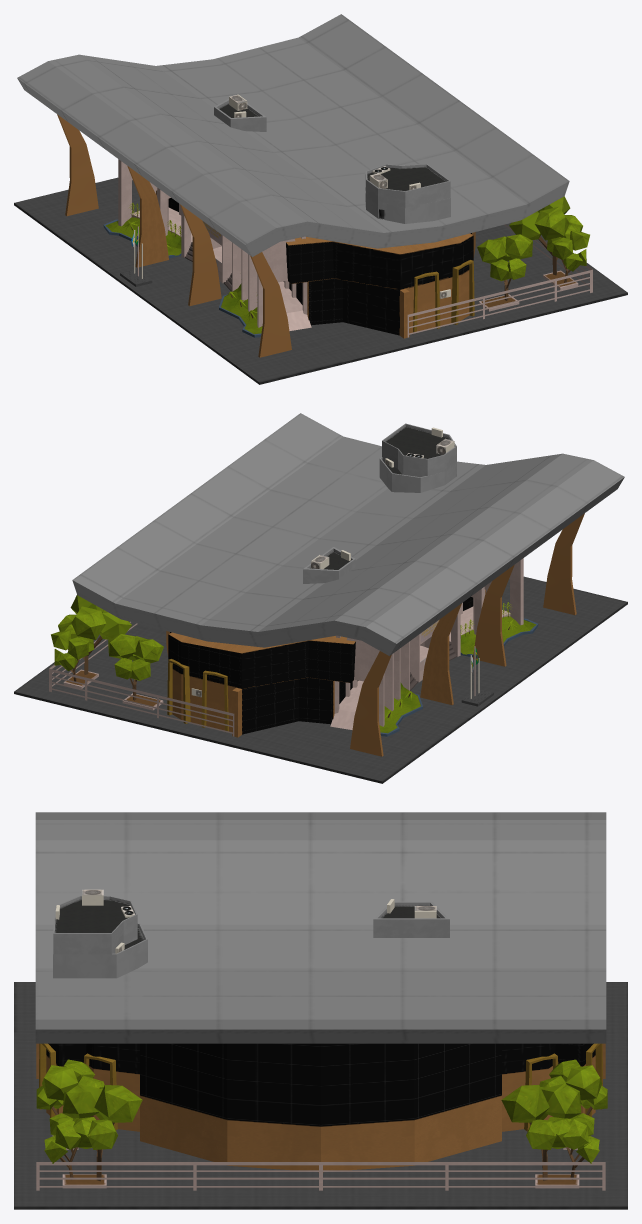
Rendered from assembleiaLOD0.fbx.
3 renders of one model, top to bottom at view 1: azimuth 30°, elevation 25°; view 2: azimuth 150°, elevation 25°; view 3: azimuth 270°, elevation 25°, orthographic. The views are drawn at different scales.
Parts seen in each view (by area): view 1: assembleiaLOD0; view 2: assembleiaLOD0; view 3: assembleiaLOD0.
Part boxes in pixels (x1=…): assembleiaLOD0: x1=14, y1=14, x2=627, y2=384; assembleiaLOD0: x1=14, y1=413, x2=627, y2=783; assembleiaLOD0: x1=14, y1=812, x2=627, y2=1209.
Bounding box in the file's own units: 4184 × 1585 × 4755.
Materials: 1 (1 with a texture image).
